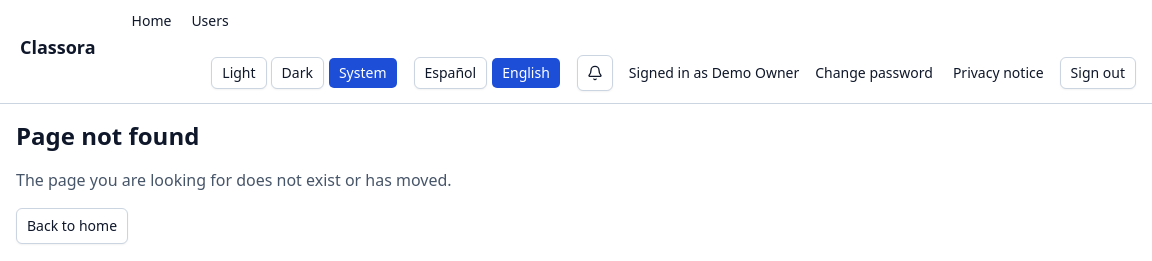
Test: 404 › goes back home from the 404 link
The width and height of the screenshot is (1152, 261).
Click the link to "/".
click(72, 226)  # box [16, 208, 128, 244]
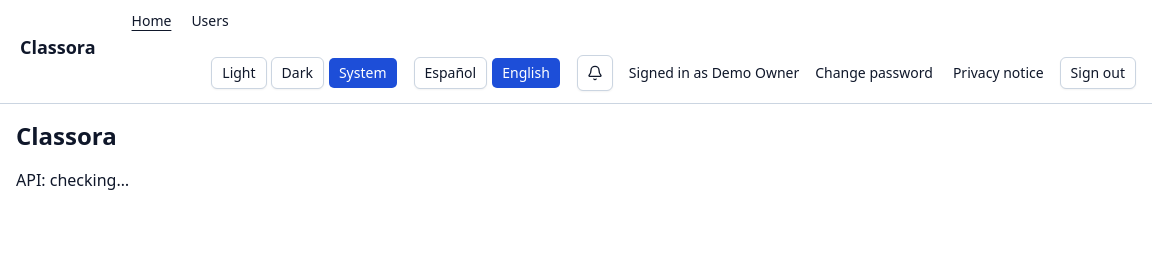
Check: the link "Classora" is shown, box [16, 33, 100, 61]
Check: the heading "Classora" is shown, box [16, 120, 117, 152]
